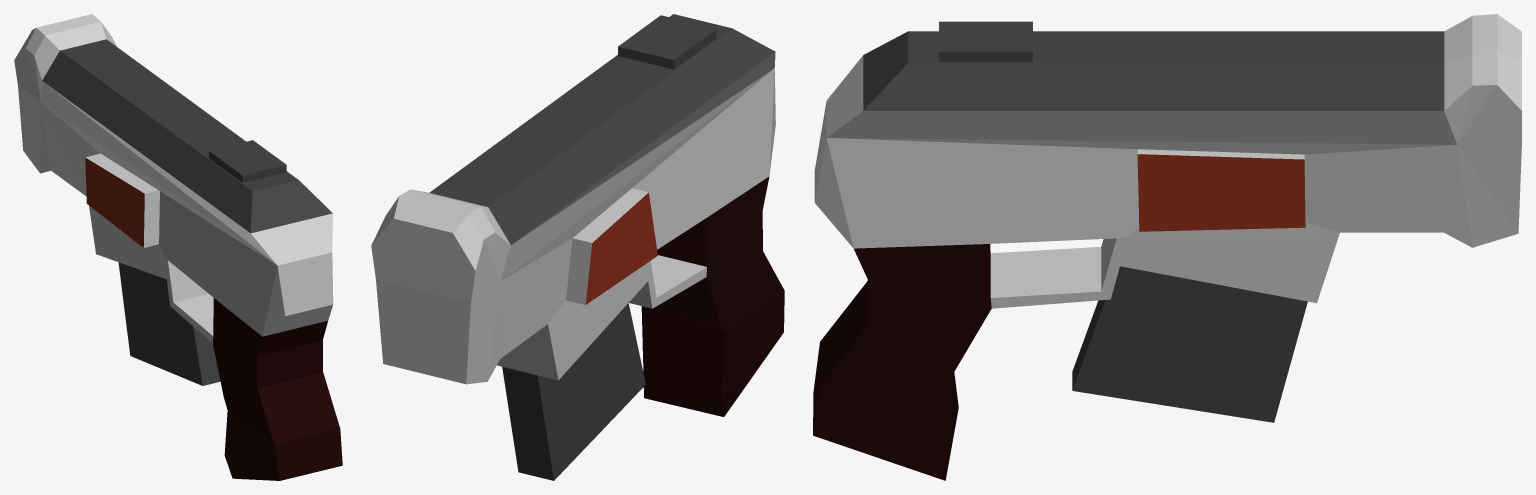
File: Pistol_Model.fbx
3 views of the same model, side by side, from view 1: azimuth 30°, elevation 25°; view 2: azimuth 150°, elevation 25°; view 3: azimuth 270°, elevation 25° (orthographic). The views are drawn at different scales.
Visible parts, largest first — view 1: Cube; view 2: Cube; view 3: Cube.
Part boxes in pixels (bbox=[...]): Cube: bbox=[14, 14, 342, 480]; Cube: bbox=[371, 14, 784, 480]; Cube: bbox=[813, 14, 1521, 480].
Bounding box in the file's own units: 0.662 × 2.03 × 3.07.
